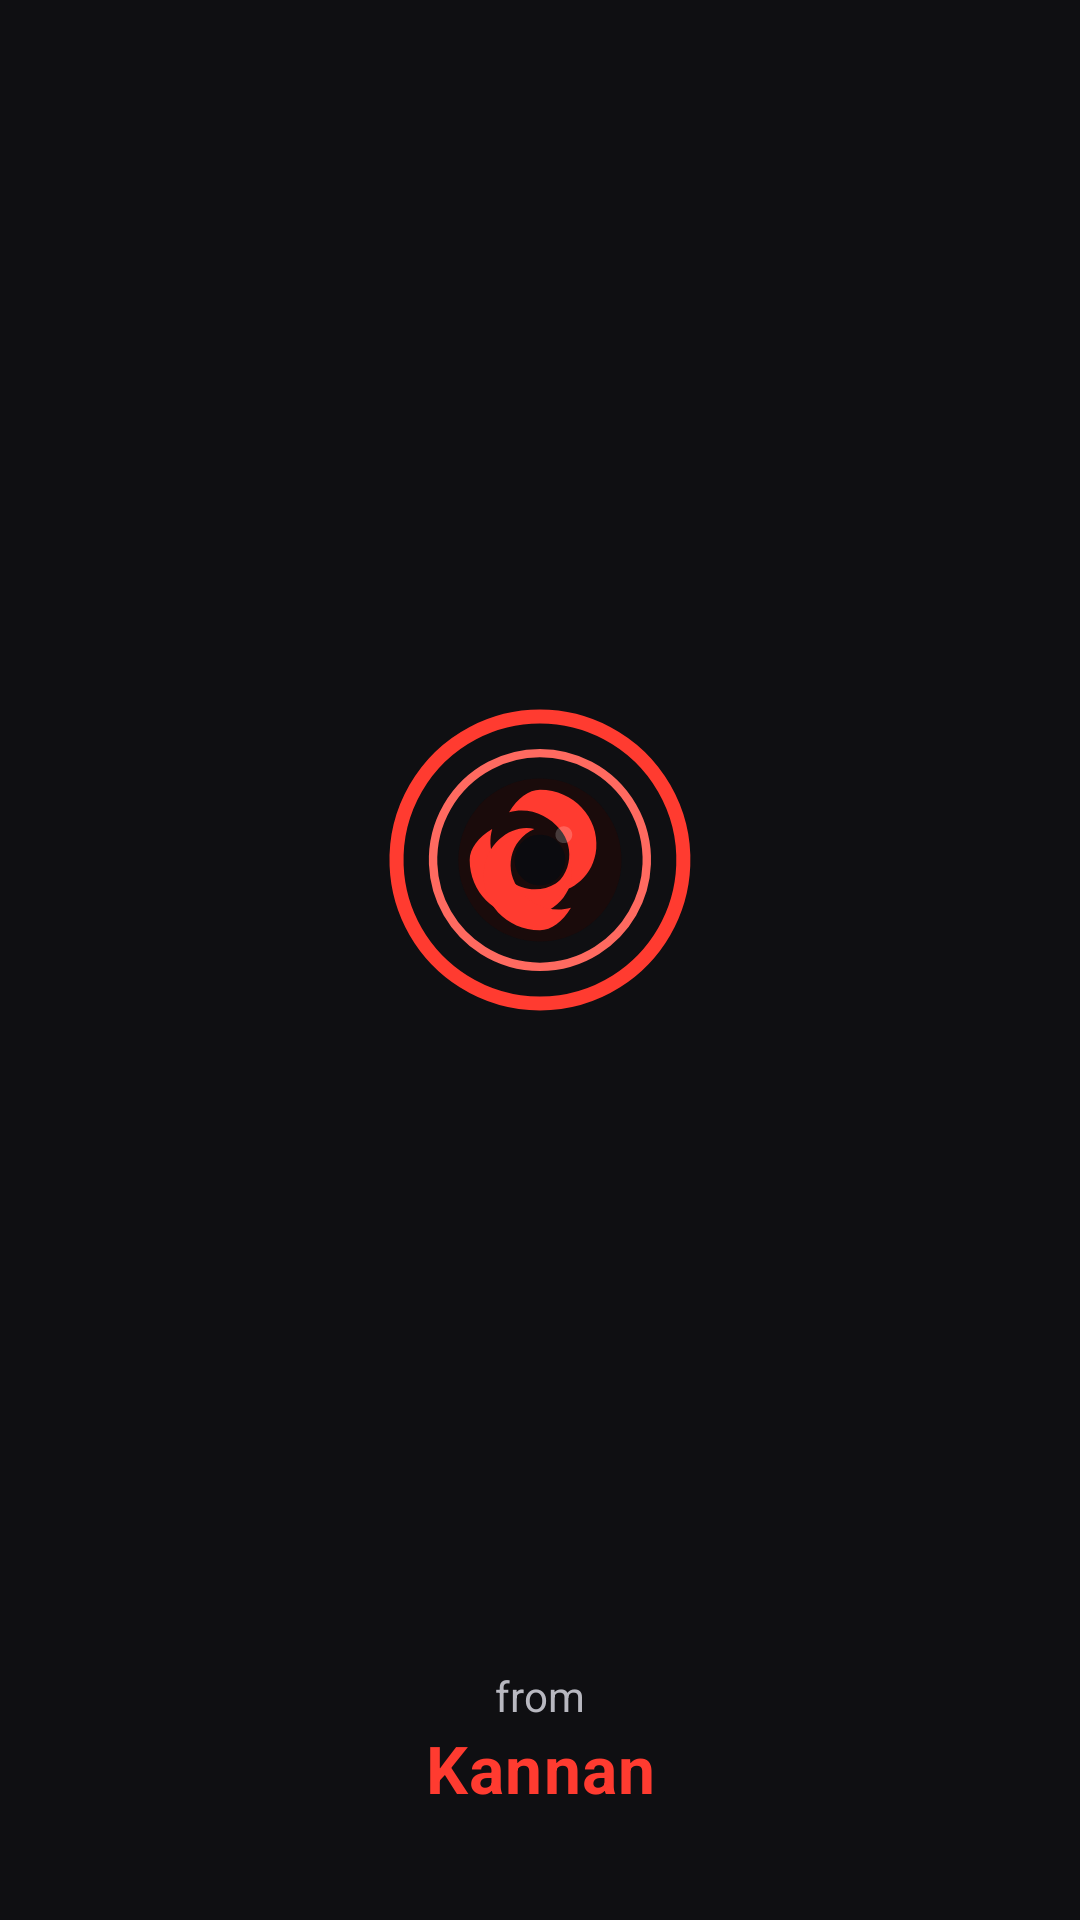

Icon click points for this 1080px x 1920px phone screenshot, format (x=x, y=y):
kanna mangekyo: (x=540, y=860)
